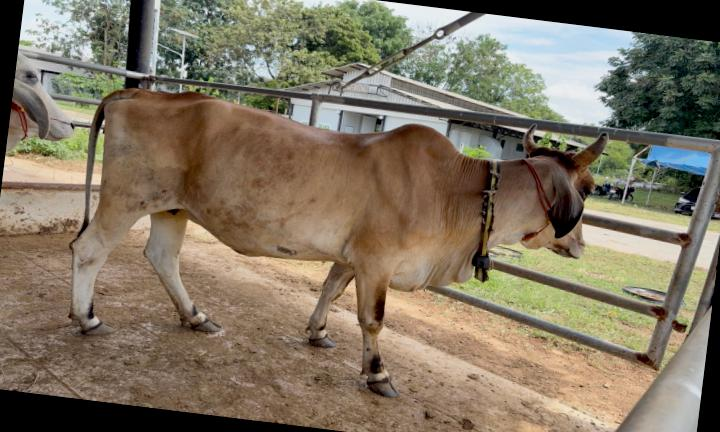Brahman: (70, 89, 607, 396)
